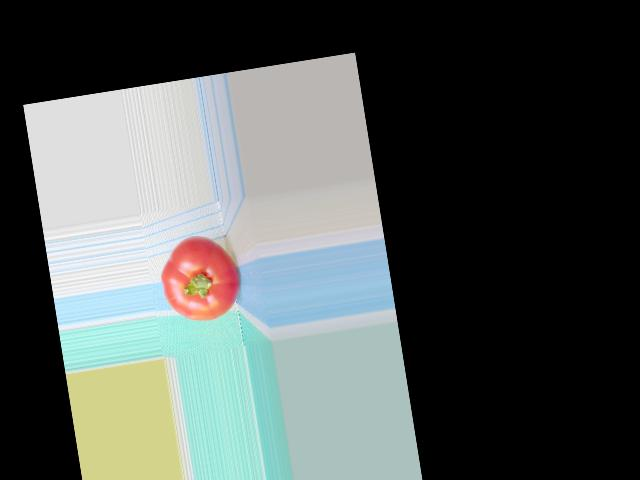tomato: (155, 230, 245, 327)
